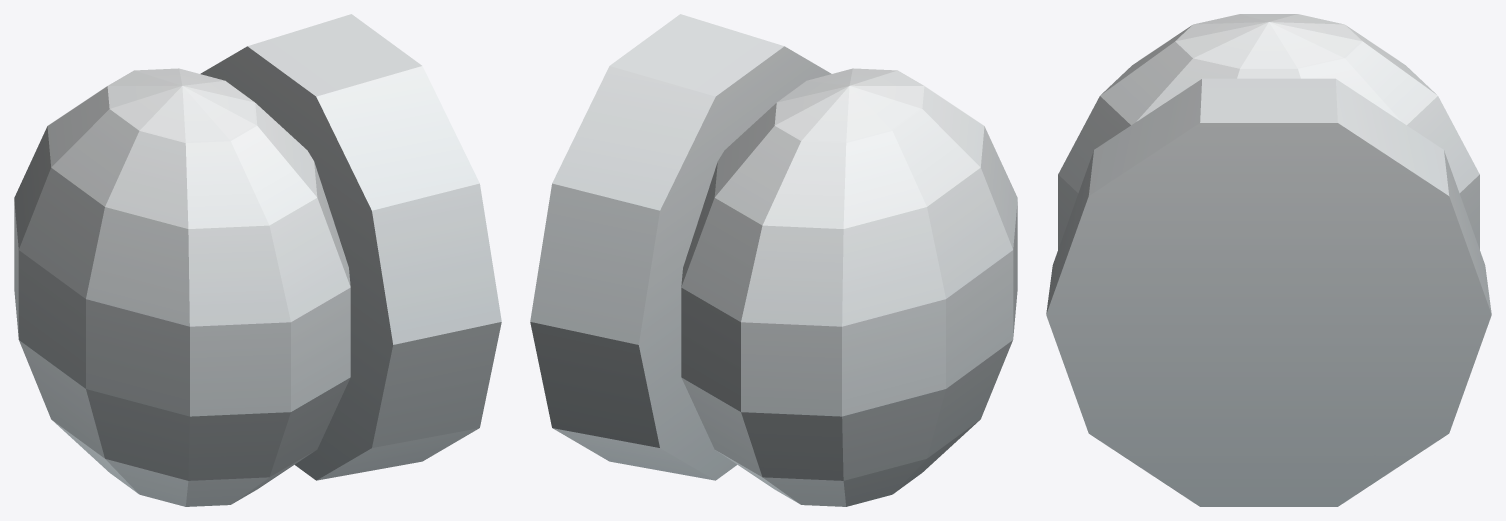
Rendered from cloth_gloves_r.glb.
The picture shows the model from 3 angles, left to right: view 1: azimuth 30°, elevation 25°; view 2: azimuth 150°, elevation 25°; view 3: azimuth 270°, elevation 25°; orthographic projection. The views are drawn at different scales.
Parts seen in each view (by area): view 1: cloth_gloves; view 2: cloth_gloves; view 3: cloth_gloves.
Boxes of the visible parts, x1=… form: cloth_gloves: x1=14, y1=14, x2=501, y2=506; cloth_gloves: x1=530, y1=14, x2=1017, y2=506; cloth_gloves: x1=1046, y1=14, x2=1491, y2=506.
Size of the model in its own units: 0.2863 by 0.33 by 0.34.
Materials: 1 (1 with a texture image).
